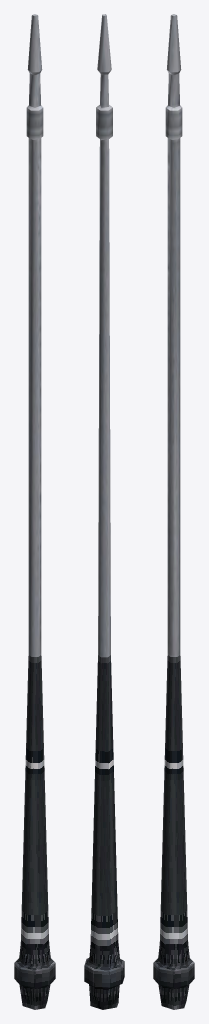
The model's file is wp_mle_lance_controller_l1.fbx.
3 views of the same model, side by side, from view 1: azimuth 90°, elevation 25°; view 2: azimuth 150°, elevation 25°; view 3: azimuth 270°, elevation 25° (orthographic).
Parts seen in each view (by area): view 1: mesh_node; view 2: mesh_node; view 3: mesh_node.
Part boxes in pixels (x1,y1,x2,y2): mesh_node: (14,14,55,1009); mesh_node: (84,14,124,1009); mesh_node: (153,14,194,1009).
Bounding box in the file's own units: 0.065 × 1.71 × 0.065.
